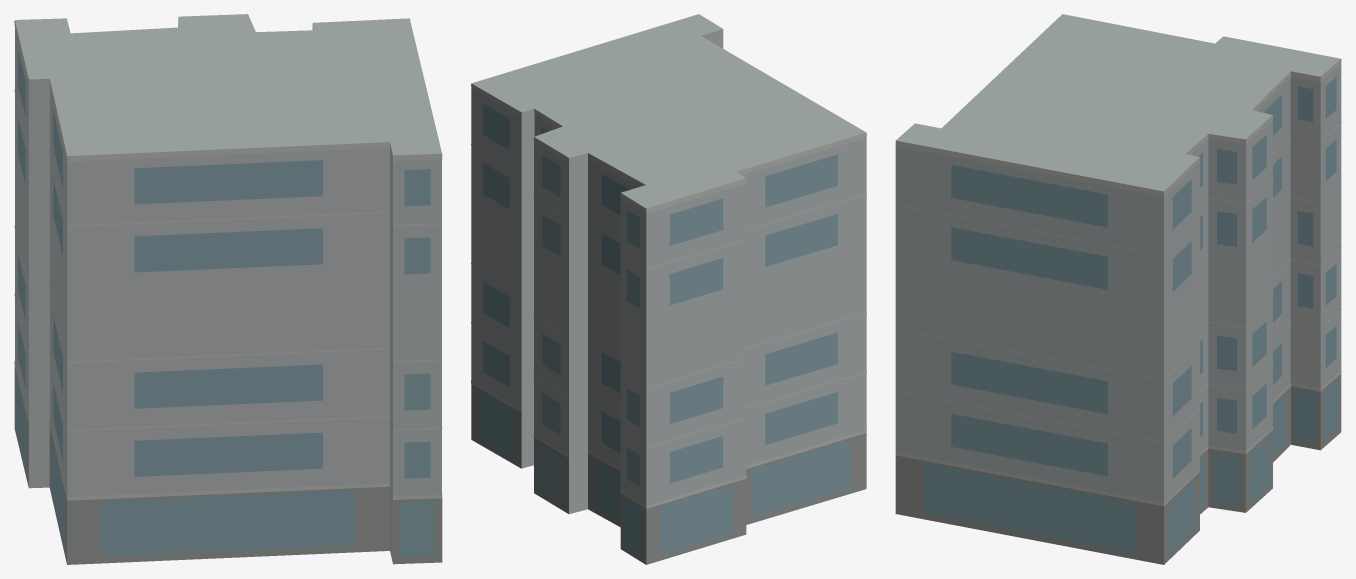
File: survey-upis-32876445.glb
3 renders of one model, left to right at view 1: azimuth 30°, elevation 25°; view 2: azimuth 150°, elevation 25°; view 3: azimuth 270°, elevation 25°, orthographic. The views are drawn at different scales.
Parts seen in each view (by area): view 1: survey-upis-32876445.tmp; view 2: survey-upis-32876445.tmp; view 3: survey-upis-32876445.tmp.
Part boxes in pixels (bbox=[...]): survey-upis-32876445.tmp: bbox=[14, 14, 442, 564]; survey-upis-32876445.tmp: bbox=[471, 14, 866, 564]; survey-upis-32876445.tmp: bbox=[895, 14, 1341, 564].
Bounding box in the file's own units: 17.35 × 17 × 18.41.
